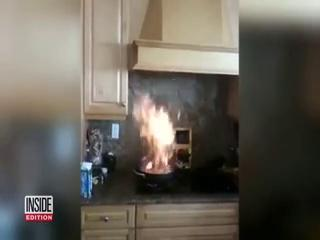Fire: (137, 92, 182, 176)
